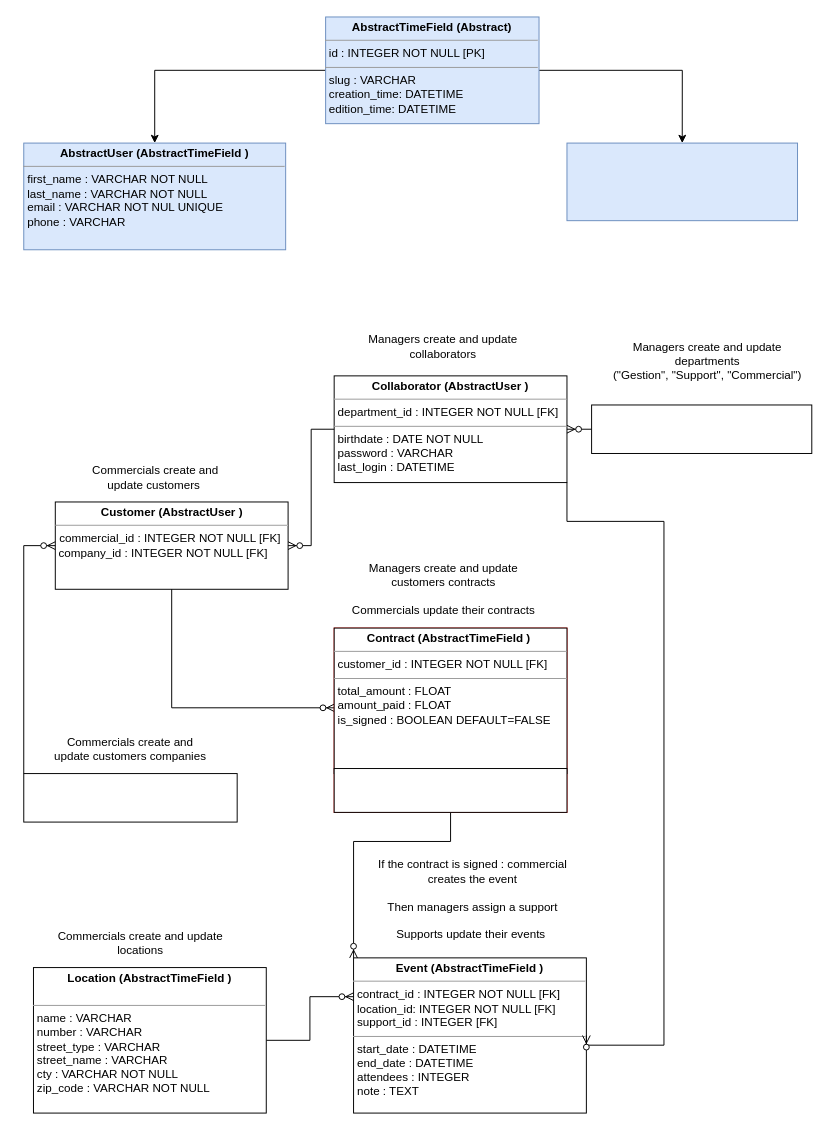
This 829x1130 diagram has some shape labels left out. Here are the shapes that lost their labels. From the top down, the box of each, then its label:
(566, 142, 798, 221): AbstractNameField (AbstractTimeField ) name: VARCHAR NOT NULL
(591, 404, 812, 453): Department ( AbstractNameField )
(23, 773, 237, 822): Company ( AbstractNameField )
(333, 768, 567, 812): Methods remaining_amout() = amount - paid
